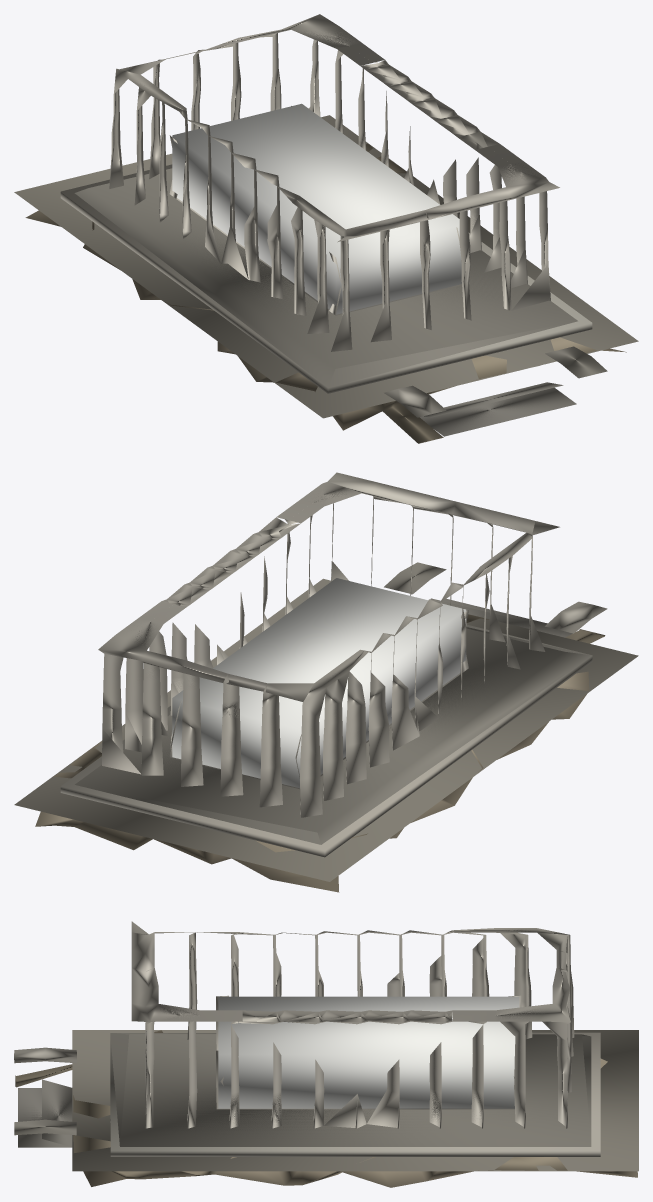
Rendered from civic_temple-zeus_stage2.glb.
3 renders of one model, top to bottom at view 1: azimuth 30°, elevation 25°; view 2: azimuth 150°, elevation 25°; view 3: azimuth 270°, elevation 25°, orthographic. The views are drawn at different scales.
Visible parts, largest first — view 1: step, marble, hall.001, stone; view 2: step, marble, hall.001, stone; view 3: step, marble, hall.001, stone.
Boxes of the visible parts, bbox=[...] form: step: bbox=[14, 115, 638, 436]; marble: bbox=[109, 14, 559, 351]; hall.001: bbox=[172, 103, 461, 314]; stone: bbox=[25, 143, 626, 443]; step: bbox=[14, 562, 638, 881]; marble: bbox=[98, 472, 559, 817]; hall.001: bbox=[172, 578, 466, 788]; stone: bbox=[35, 614, 605, 892]; step: bbox=[14, 1030, 638, 1171]; marble: bbox=[131, 921, 574, 1128]; hall.001: bbox=[218, 996, 519, 1108]; stone: bbox=[15, 1030, 637, 1187].
Bounding box in the file's own units: 15.1 × 7.33 × 28.24.
